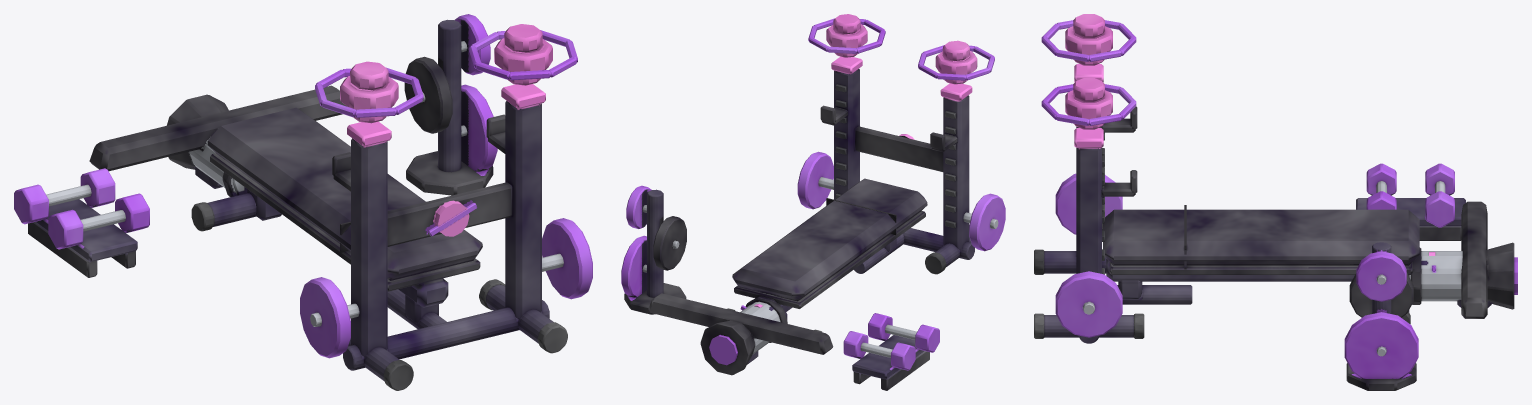
The model's file is Bench_Cosmique_Rig.fbx.
The picture shows the model from 3 angles, left to right: view 1: azimuth 30°, elevation 25°; view 2: azimuth 150°, elevation 25°; view 3: azimuth 270°, elevation 25°; orthographic projection. The views are drawn at different scales.
Visible parts, largest first — view 1: Rack, Weights, Bench, Decor; view 2: Rack, Weights, Bench, Decor; view 3: Bench, Weights, Rack, Decor.
Boxes of the visible parts, bbox=[...] form: Rack: bbox=[300, 84, 592, 390]; Weights: bbox=[14, 14, 497, 277]; Bench: bbox=[191, 107, 482, 307]; Decor: bbox=[167, 24, 577, 196]; Rack: bbox=[797, 56, 1005, 274]; Weights: bbox=[621, 185, 939, 390]; Bench: bbox=[727, 178, 927, 332]; Decor: bbox=[700, 14, 994, 375]; Bench: bbox=[1103, 205, 1435, 323]; Weights: bbox=[1344, 163, 1491, 390]; Rack: bbox=[1034, 64, 1192, 343]; Decor: bbox=[1041, 14, 1517, 309].
Size of the model in its own units: 9.02 by 6 by 10.36.
1 material, 1 textured.
